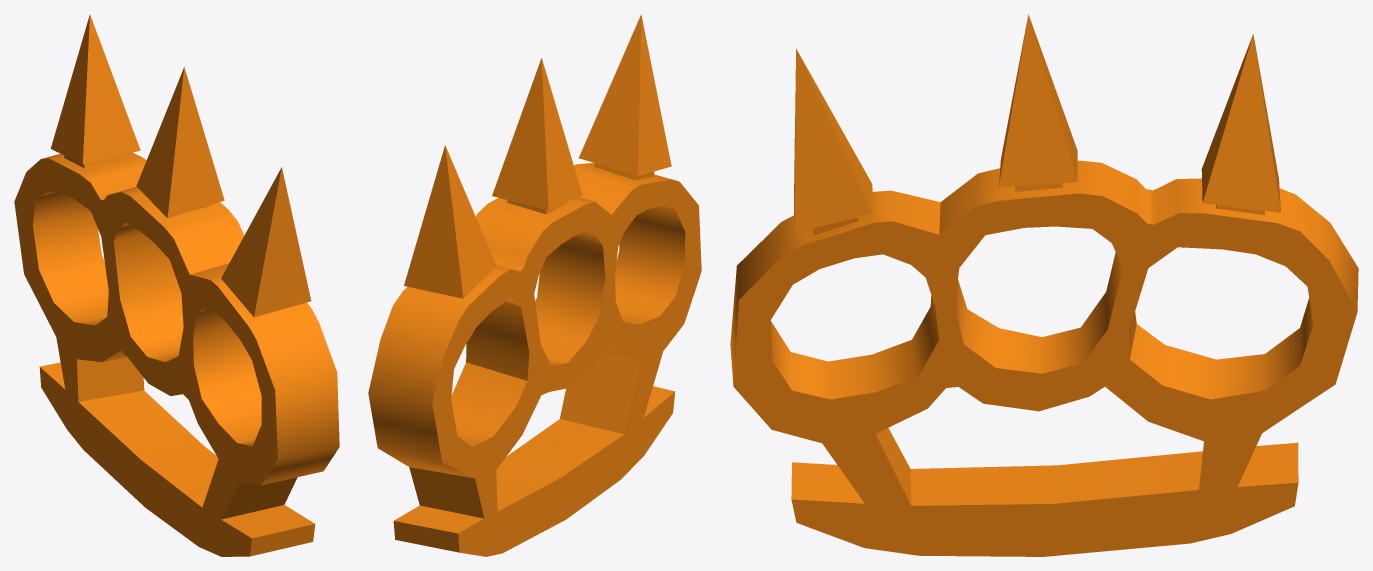
File: brassknuckles.fbx
3 renders of one model, left to right at view 1: azimuth 30°, elevation 25°; view 2: azimuth 150°, elevation 25°; view 3: azimuth 270°, elevation 25°, orthographic. The views are drawn at different scales.
Parts seen in each view (by area): view 1: brassknuckles; view 2: brassknuckles; view 3: brassknuckles.
Part boxes in pixels (x1,y1,x2,y2): brassknuckles: [14, 14, 339, 556]; brassknuckles: [368, 14, 701, 556]; brassknuckles: [730, 14, 1358, 556].
Bounding box in the file's own units: 1.51 × 10.87 × 10.02.
